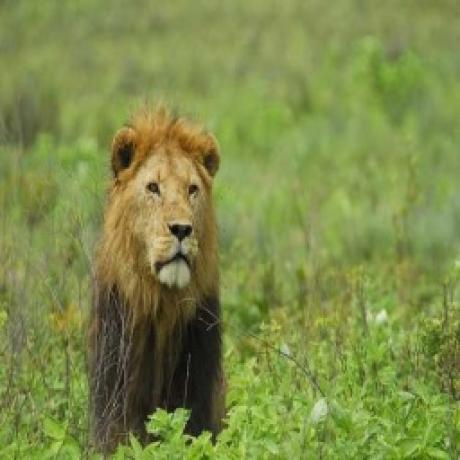Lion: (83, 103, 244, 445)
